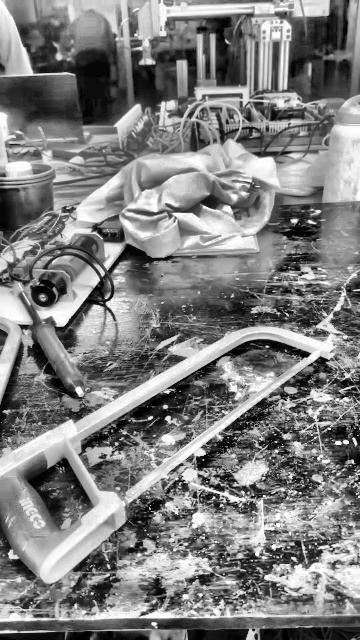pot: (1, 167, 57, 232)
